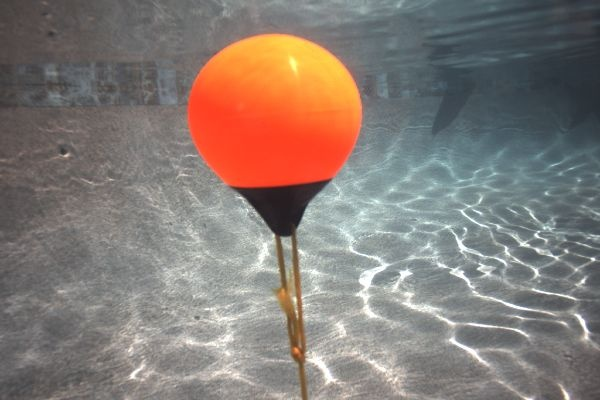buoy: (189, 34, 363, 234)
